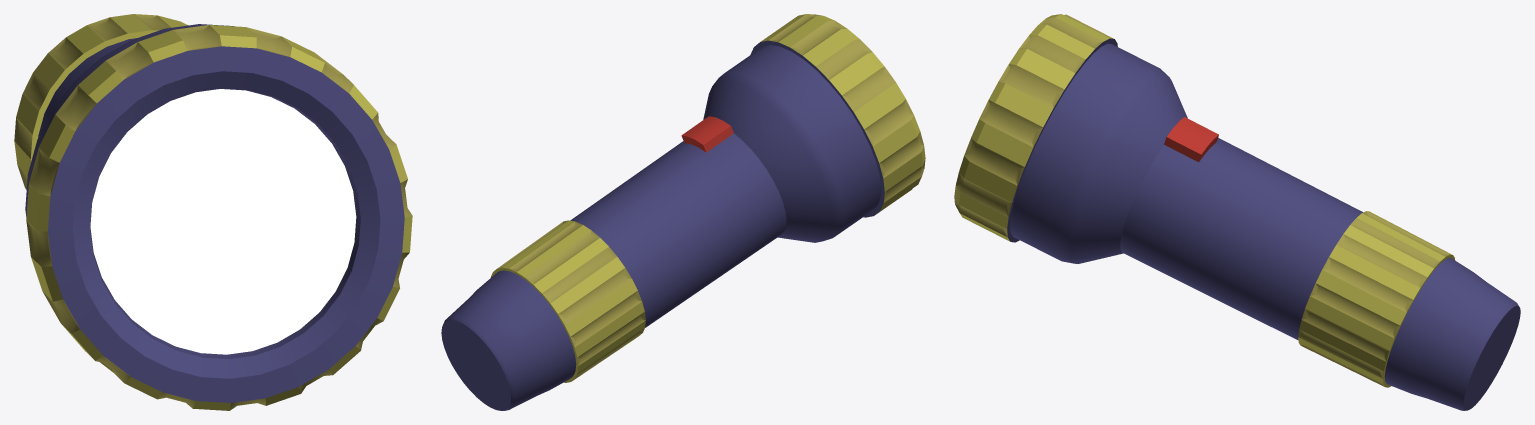
Rendered from LINTERNA.fbx.
3 views of the same model, side by side, from view 1: azimuth 30°, elevation 25°; view 2: azimuth 150°, elevation 25°; view 3: azimuth 270°, elevation 25° (orthographic). The views are drawn at different scales.
Parts seen in each view (by area): view 1: lintern; view 2: lintern; view 3: lintern.
Part boxes in pixels (x1=…): lintern: x1=14, y1=14, x2=412, y2=410; lintern: x1=441, y1=14, x2=925, y2=410; lintern: x1=954, y1=14, x2=1520, y2=410.
Bounding box in the file's own units: 0.00719 × 0.00665 × 0.0112.
